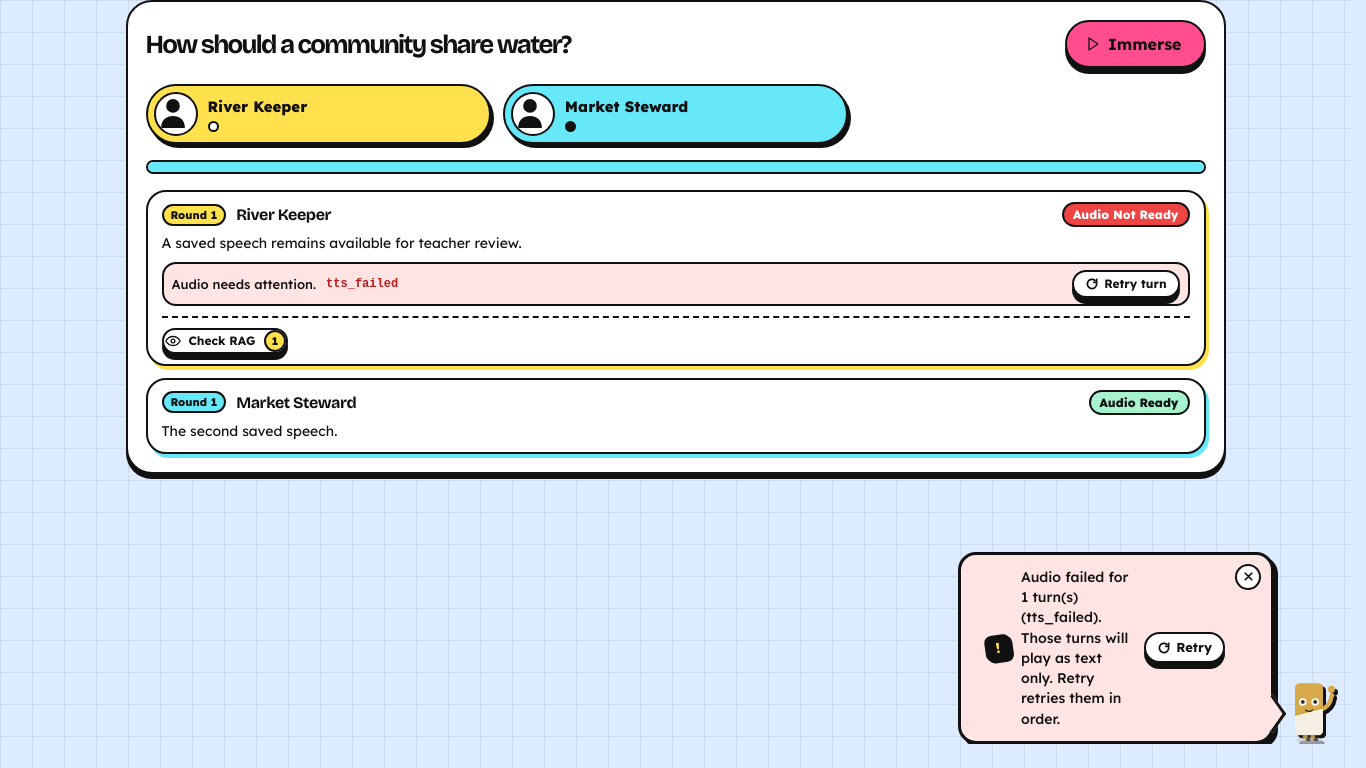
teacher debate preview › keeps saved speech visible when audio failed and exposes exact RAG mapping
The width and height of the screenshot is (1366, 768).
Expected: the element with test id "debate-preview" is shown, [126,0,1226,474]
Expected: the heading "How should a community share water?" is shown, [146,28,570,60]
Click the text "Check RAG": {"x": 222, "y": 341} [188,333,255,348]
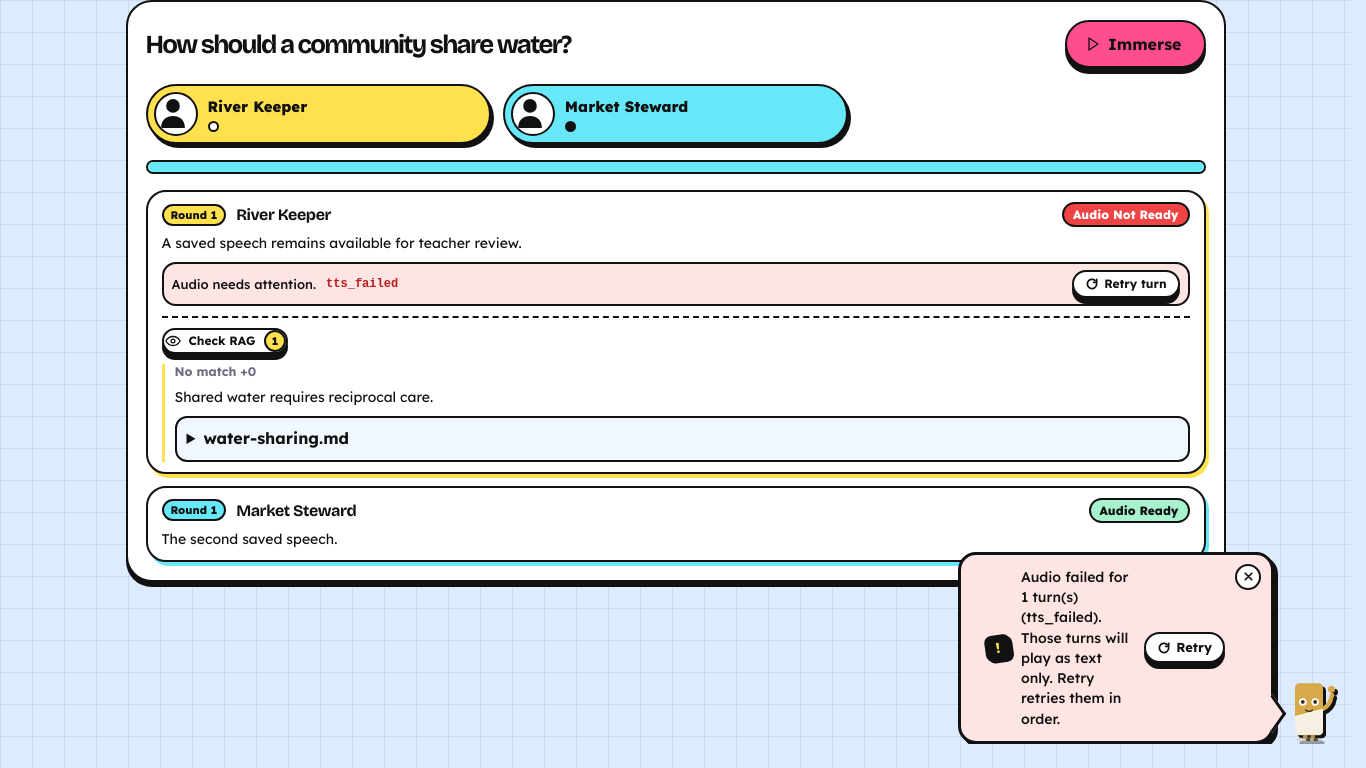
Expected: the text "water-sharing.md" is shown, [203,428,349,448]
